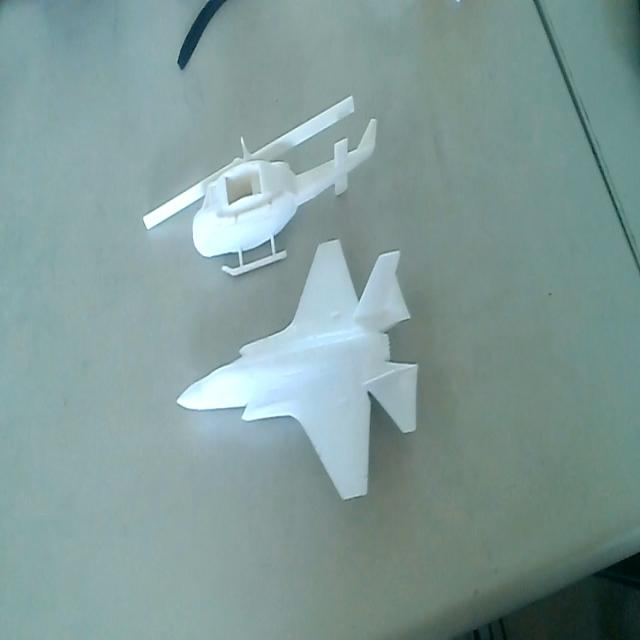Helicopter: (140, 91, 380, 278)
Jet: (176, 239, 421, 506)
